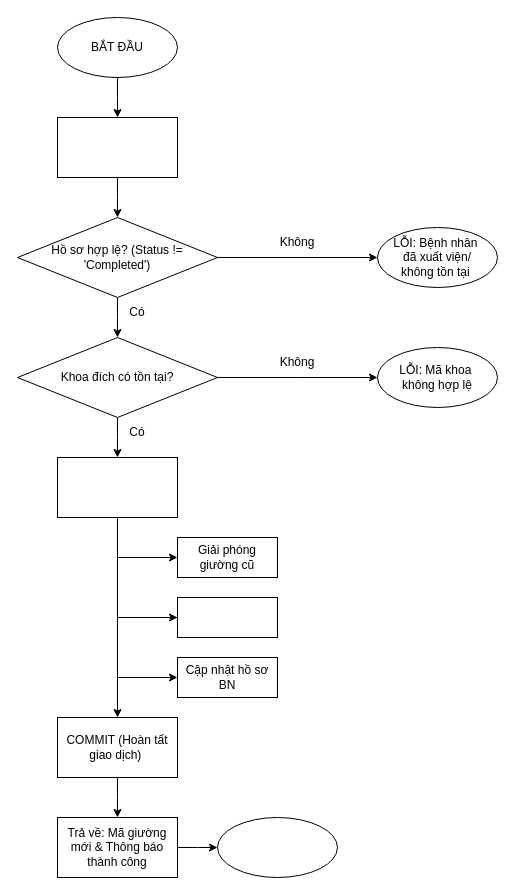
The diagram is 515 pixels wide and 895 high, and some of its shapes have lost their labels. Here are the shapes that lost their labels. From the top down, the box of each, then its label:
(56, 116, 178, 178): Nhận Patient_ID & Target_Dept_ID
(56, 456, 178, 518): BẮT ĐẦU TRANSACTION
(176, 596, 278, 638): Gán giường mới (FOR UPDATE)
(216, 816, 338, 878): Kết thúc
